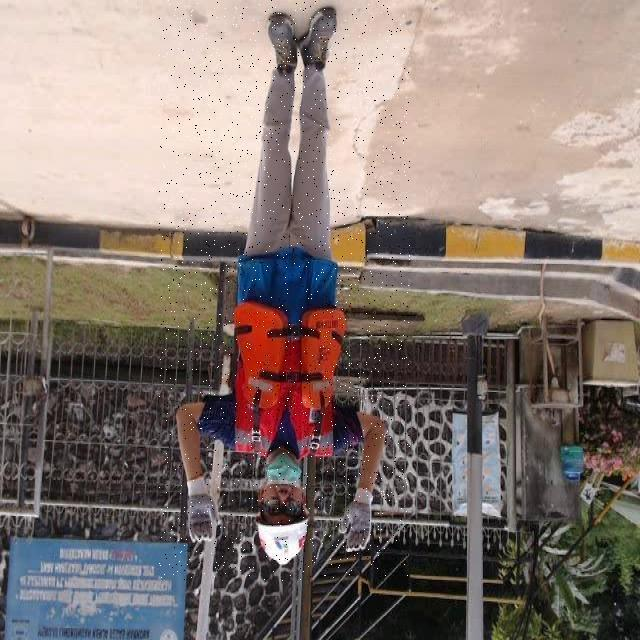Boots: (295, 3, 344, 70), (266, 13, 296, 79)
Gloves: (336, 484, 377, 558), (182, 469, 218, 545)
Helmet: (252, 514, 311, 566)
Vest: (234, 255, 347, 458)
